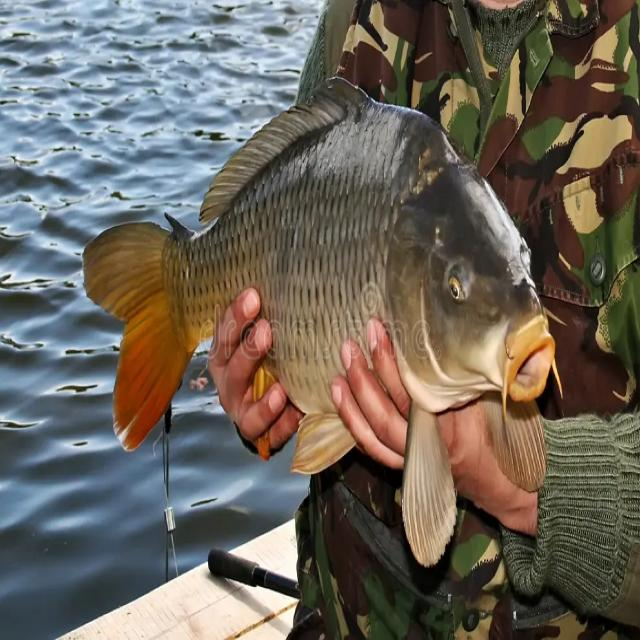Common carp: (82, 77, 554, 566)
